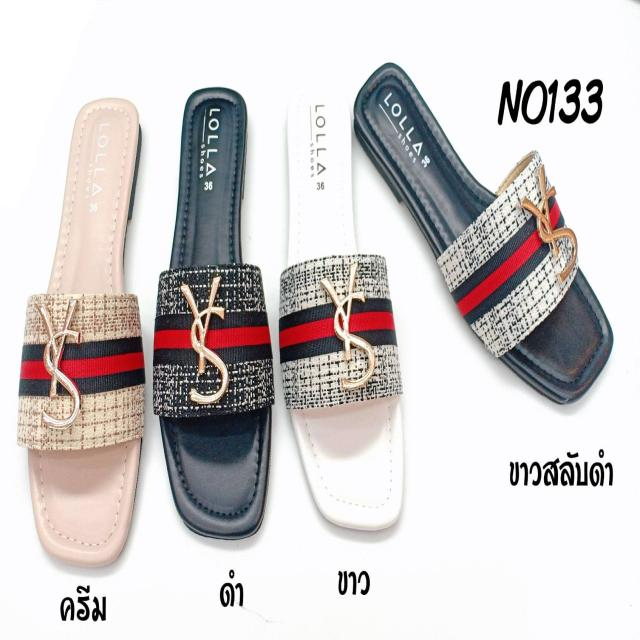cream: (29, 98, 142, 560)
kakee: (160, 91, 266, 534)
white: (278, 81, 403, 535)
white-black: (353, 58, 608, 398)
